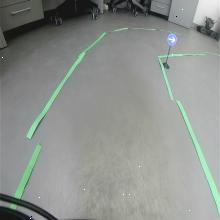right: (166, 32, 178, 46)
